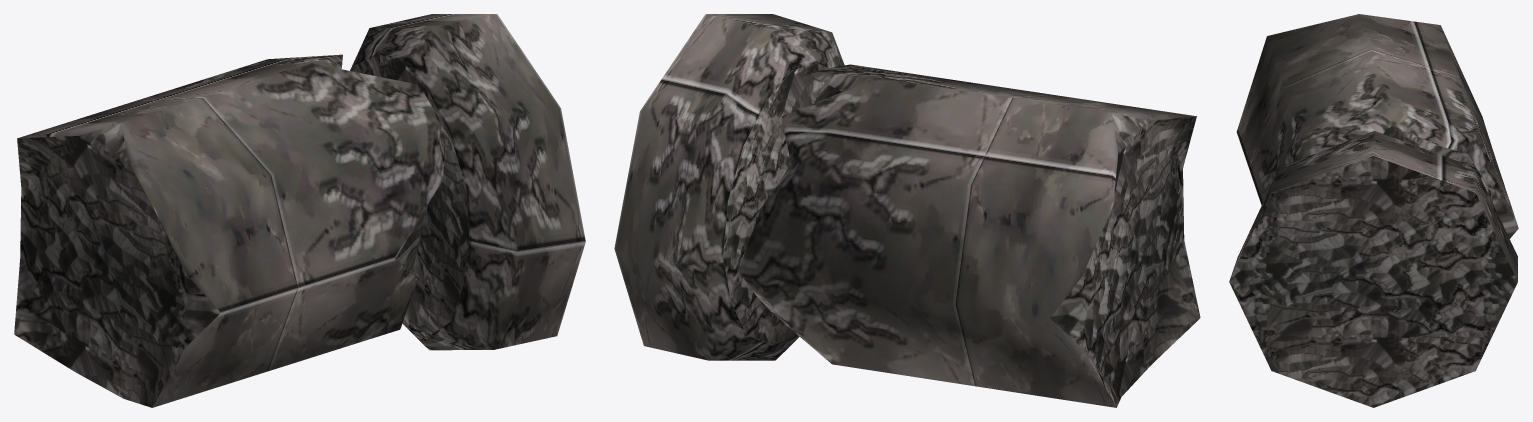
Rendered from INST_SM_COLUMN_BROKEN_PIECED.fbx.
3 renders of one model, left to right at view 1: azimuth 30°, elevation 25°; view 2: azimuth 150°, elevation 25°; view 3: azimuth 270°, elevation 25°, orthographic. The views are drawn at different scales.
Visible parts, largest first — view 1: INST_SM_COLUMN_BROKEN_PIECED; view 2: INST_SM_COLUMN_BROKEN_PIECED; view 3: INST_SM_COLUMN_BROKEN_PIECED.
Boxes of the visible parts, <box> form: INST_SM_COLUMN_BROKEN_PIECED: <box>14,14,585,407</box>; INST_SM_COLUMN_BROKEN_PIECED: <box>614,14,1200,407</box>; INST_SM_COLUMN_BROKEN_PIECED: <box>1229,14,1518,407</box>.
Bounding box in the file's own units: 39242 × 27373 × 28169.
3 materials, 3 textured.
